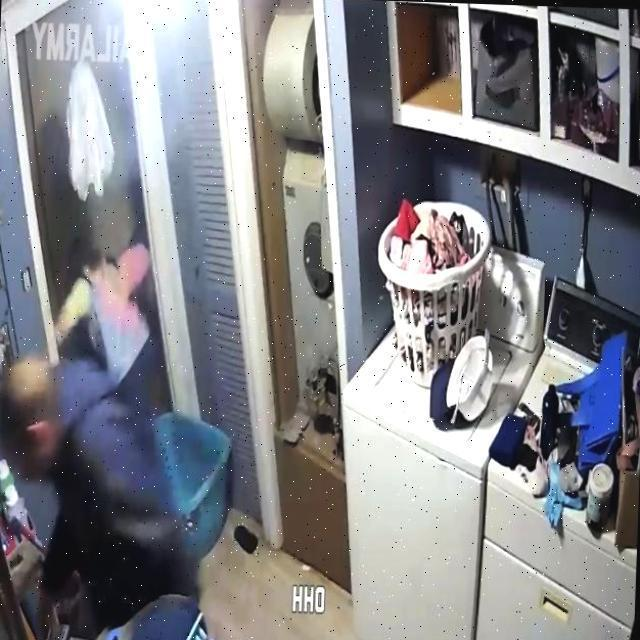person: (0, 349, 202, 640)
